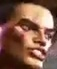kevin: (3, 0, 51, 66)
